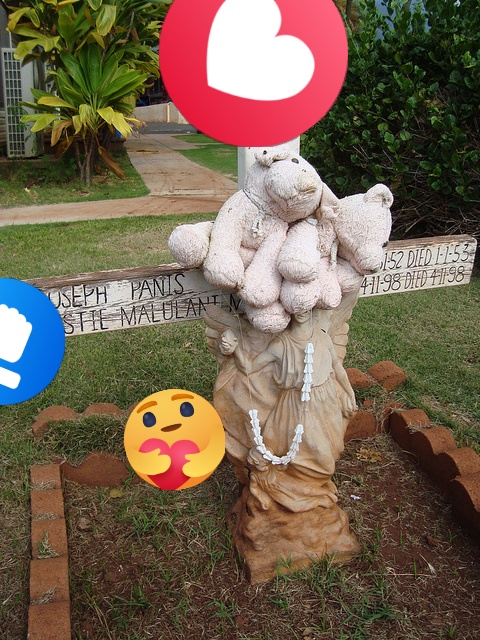care: (124, 389, 225, 490)
like: (0, 278, 65, 405)
love: (159, 0, 348, 147)
